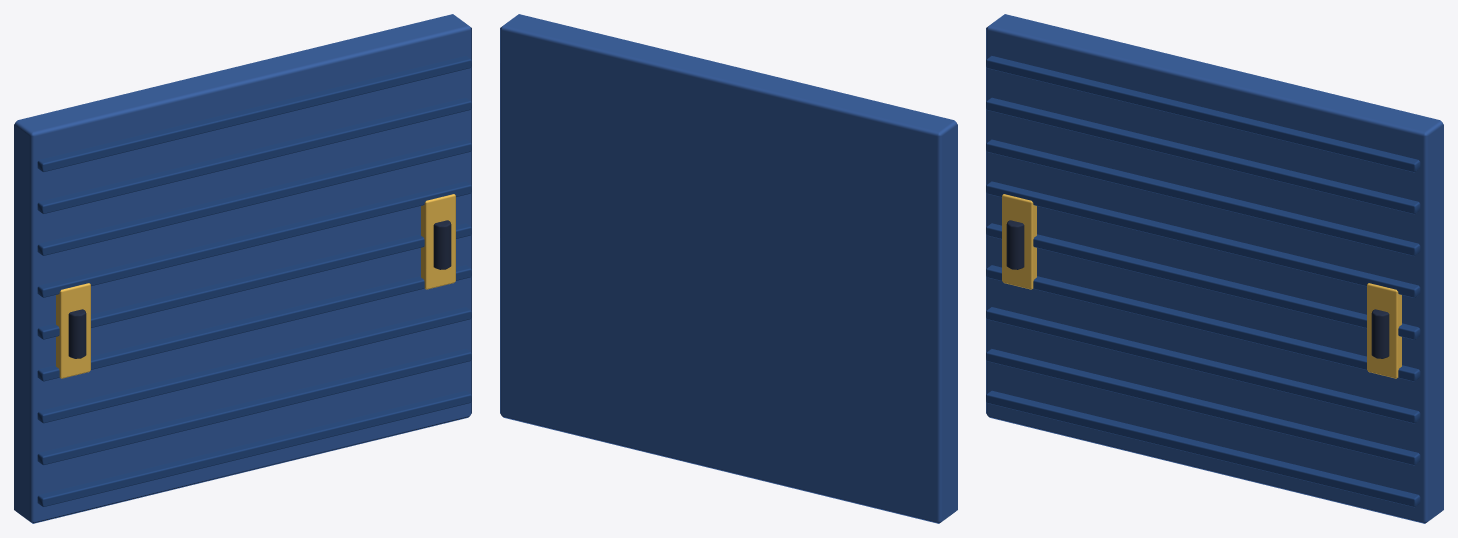
File: storm_hatch.glb
3 renders of one model, left to right at view 1: azimuth 30°, elevation 25°; view 2: azimuth 150°, elevation 25°; view 3: azimuth 330°, elevation 25°, orthographic.
Visible parts, largest first — view 1: storm_hatch; view 2: storm_hatch; view 3: storm_hatch.
Part boxes in pixels (x1,y1,x2,y2): storm_hatch: (14, 14, 471, 523); storm_hatch: (500, 14, 957, 523); storm_hatch: (986, 14, 1443, 523).
Size of the model in its own units: 3.54 by 3 by 0.432.
